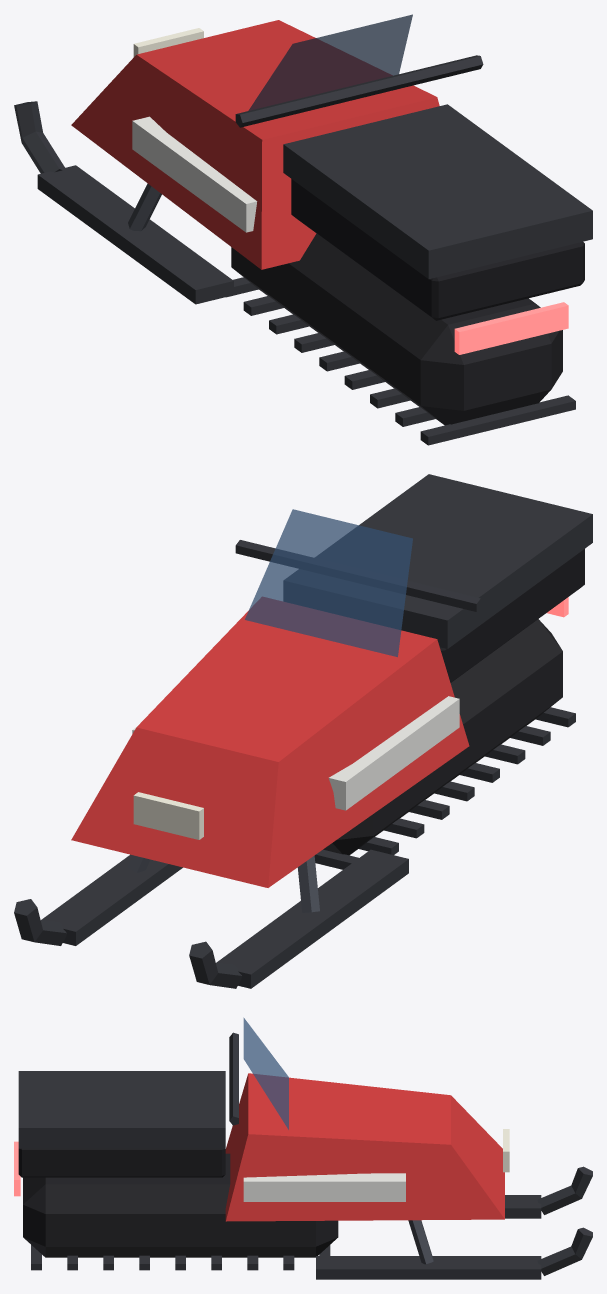
File: Snowmobile.fbx
The picture shows the model from 3 angles, top to bottom: view 1: azimuth 30°, elevation 25°; view 2: azimuth 150°, elevation 25°; view 3: azimuth 270°, elevation 25°; orthographic projection. The views are drawn at different scales.
Parts seen in each view (by area): view 1: Snowmobile_Charcoal, Snowmobile_Red, Snowmobile_Rubber, Snowmobile_Black, Snowmobile_GlassDark, Snowmobile_White, Snowmobile_NeonRed, Snowmobile_NeonWhite, Snowmobile_DarkMetal; view 2: Snowmobile_Red, Snowmobile_Charcoal, Snowmobile_GlassDark, Snowmobile_Rubber, Snowmobile_White, Snowmobile_Black, Snowmobile_NeonWhite, Snowmobile_DarkMetal; view 3: Snowmobile_Red, Snowmobile_Charcoal, Snowmobile_Rubber, Snowmobile_Black, Snowmobile_White, Snowmobile_GlassDark, Snowmobile_DarkMetal.
Part boxes in pixels (x1=…): Snowmobile_Charcoal: x1=14, y1=55, x2=592, y2=445; Snowmobile_Red: x1=71, y1=20, x2=439, y2=269; Snowmobile_Rubber: x1=231, y1=233, x2=562, y2=425; Snowmobile_Black: x1=291, y1=179, x2=584, y2=320; Snowmobile_GlassDark: x1=248, y1=14, x2=412, y2=110; Snowmobile_White: x1=132, y1=116, x2=257, y2=232; Snowmobile_NeonRed: x1=454, y1=302, x2=568, y2=354; Snowmobile_NeonWhite: x1=133, y1=28, x2=203, y2=56; Snowmobile_DarkMetal: x1=128, y1=183, x2=161, y2=231; Snowmobile_Red: x1=71, y1=597, x2=469, y2=887; Snowmobile_Charcoal: x1=14, y1=474, x2=592, y2=988; Snowmobile_GlassDark: x1=245, y1=509, x2=412, y2=657; Snowmobile_Rubber: x1=323, y1=619, x2=562, y2=855; Snowmobile_White: x1=132, y1=696, x2=459, y2=810; Snowmobile_Black: x1=440, y1=549, x2=584, y2=682; Snowmobile_NeonWhite: x1=133, y1=792, x2=203, y2=839; Snowmobile_DarkMetal: x1=128, y1=855, x2=319, y2=912; Snowmobile_Red: x1=225, y1=1073, x2=504, y2=1221; Snowmobile_Charcoal: x1=18, y1=1032, x2=592, y2=1279; Snowmobile_Rubber: x1=23, y1=1153, x2=338, y2=1257; Snowmobile_Black: x1=18, y1=1148, x2=225, y2=1177; Snowmobile_White: x1=243, y1=1173, x2=405, y2=1201; Snowmobile_GlassDark: x1=243, y1=1017, x2=288, y2=1129; Snowmobile_DarkMetal: x1=408, y1=1220, x2=433, y2=1264.
Size of the model in its own units: 4.4 by 5.05 by 12.85.
